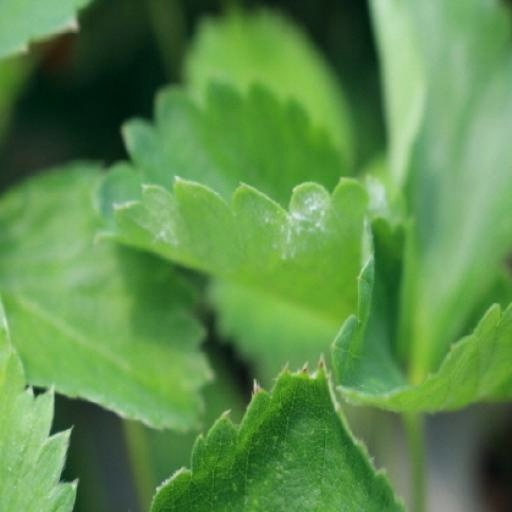Powdery Mildew Leaf: (141, 175, 422, 324)
